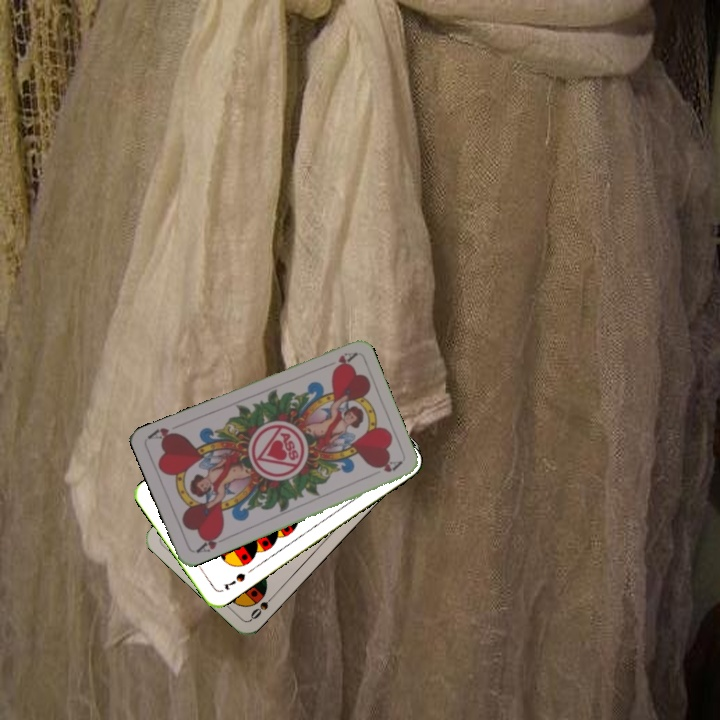HA: (192, 528, 230, 555), (319, 348, 358, 373)
S7: (219, 569, 248, 592)
SO: (246, 590, 279, 622)
